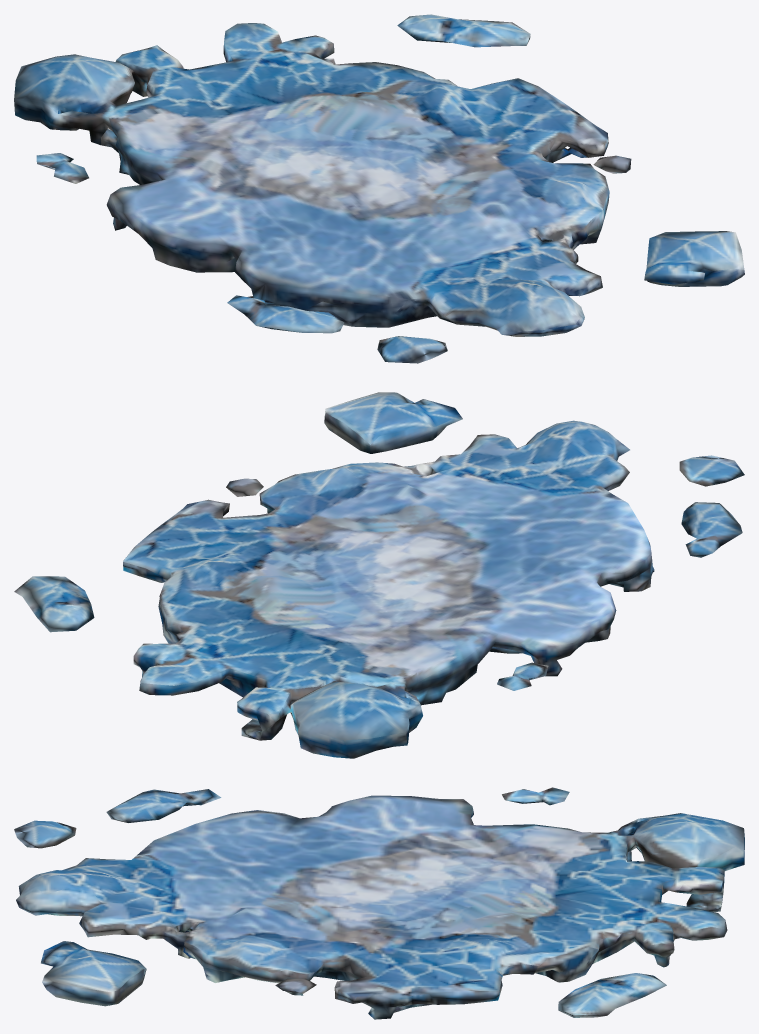
Rendered from SecondRoom_FrozenPool.fbx.
The picture shows the model from 3 angles, top to bottom: view 1: azimuth 30°, elevation 25°; view 2: azimuth 150°, elevation 25°; view 3: azimuth 270°, elevation 25°; orthographic projection. The views are drawn at different scales.
Visible parts, largest first — view 1: SecondRoom_FrozenPool_Mesh; view 2: SecondRoom_FrozenPool_Mesh; view 3: SecondRoom_FrozenPool_Mesh.
Part boxes in pixels (x1,y1,x2,y2): SecondRoom_FrozenPool_Mesh: (14,14,744,363); SecondRoom_FrozenPool_Mesh: (14,392,744,758); SecondRoom_FrozenPool_Mesh: (14,787,744,1019).
Bounding box in the file's own units: 4.37 × 0.4712 × 6.
1 material, 1 textured.
